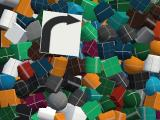Right: (40, 10, 82, 56)
